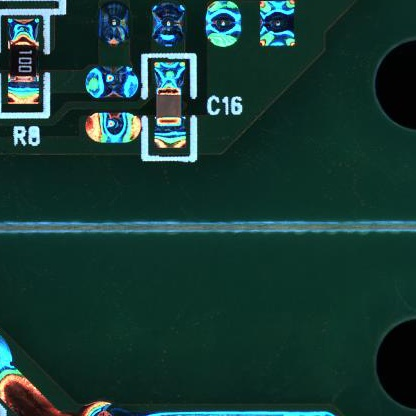spot: (256, 1, 298, 49), (85, 111, 141, 146), (205, 1, 243, 50), (86, 67, 137, 100), (152, 1, 186, 49), (97, 3, 130, 47)
